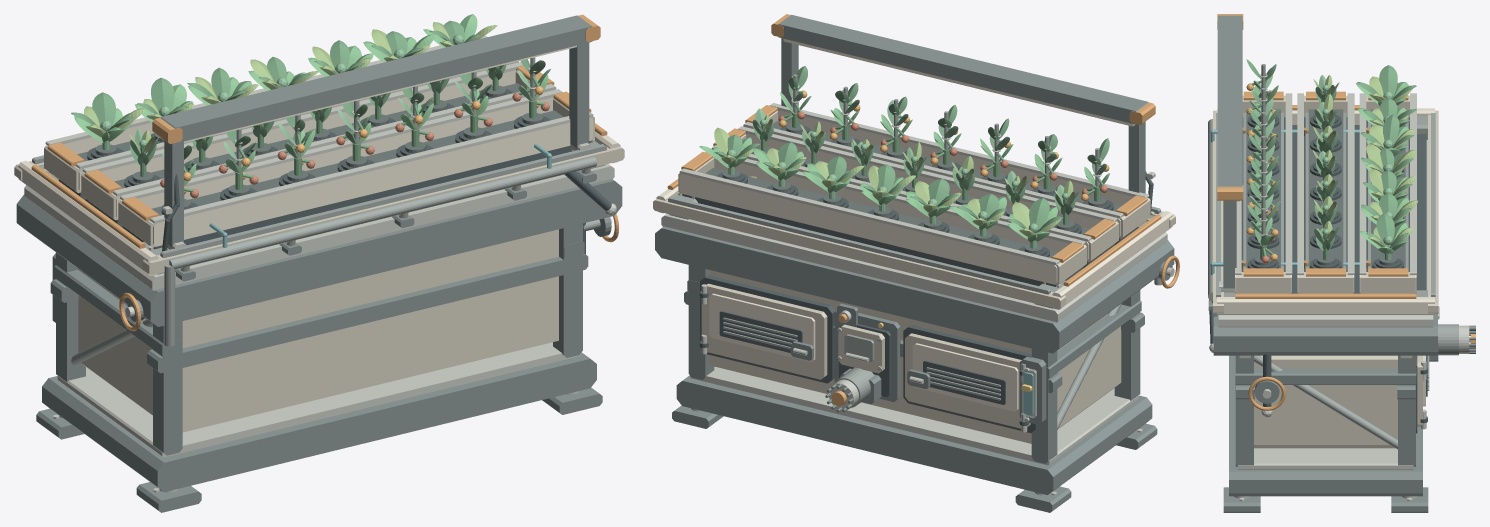
Rendered from large_planter_source.glb.
3 renders of one model, left to right at view 1: azimuth 30°, elevation 25°; view 2: azimuth 150°, elevation 25°; view 3: azimuth 270°, elevation 25°, orthographic. The views are drawn at different scales.
Parts seen in each view (by area): view 1: Static__gunmetal, Static__bone, Static__steel, Static__cream, Static__darksteel, Static__inner, Static__graphite, Harvest_Crops_Front__leaf_dark, Static__ochre, Harvest_Crops_Front__leaf_medium, Harvest_Crops_Back__leaf_dark, Harvest_Crops_Front__leaf_light (+6 smaller); view 2: Static__gunmetal, Static__steel, Static__cream, Static__bone, Static__graphite, Static__darksteel, Static__inner, Harvest_Crops_Front__leaf_dark, Static__ochre, Harvest_Crops_Back__leaf_dark, Harvest_Crops_Front__leaf_light, Harvest_Crops_Front__leaf_medium (+10 smaller); view 3: Static__gunmetal, Static__bone, Static__steel, Static__darksteel, Static__graphite, Static__inner, Static__cream, Harvest_Crops_Front__leaf_dark, Static__ochre, Harvest_Crops_Front__leaf_light, Static__rubber, Harvest_Crops_Front__leaf_medium (+10 smaller).
Boxes of the visible parts, left/top/right/bottom form: Static__gunmetal: left=16, top=15, right=622, bottom=512; Static__bone: left=14, top=71, right=624, bottom=432; Static__steel: left=24, top=35, right=616, bottom=492; Static__cream: left=18, top=45, right=620, bottom=275; Static__darksteel: left=32, top=57, right=606, bottom=365; Static__inner: left=77, top=83, right=563, bottom=215; Static__graphite: left=49, top=88, right=611, bottom=254; Harvest_Crops_Front__leaf_dark: left=71, top=21, right=481, bottom=132; Static__ochre: left=31, top=14, right=607, bottom=248; Harvest_Crops_Front__leaf_medium: left=74, top=14, right=482, bottom=142; Harvest_Crops_Back__leaf_dark: left=184, top=59, right=545, bottom=202; Harvest_Crops_Front__leaf_light: left=83, top=22, right=497, bottom=137; Static__gunmetal: left=655, top=14, right=1174, bottom=512; Static__steel: left=661, top=85, right=1167, bottom=495; Static__cream: left=656, top=38, right=1172, bottom=411; Static__bone: left=653, top=111, right=1175, bottom=443; Static__graphite: left=682, top=126, right=1143, bottom=432; Static__darksteel: left=668, top=74, right=1162, bottom=429; Static__inner: left=705, top=121, right=1121, bottom=257; Harvest_Crops_Front__leaf_dark: left=714, top=134, right=1063, bottom=232; Static__ochre: left=667, top=14, right=1161, bottom=406; Harvest_Crops_Back__leaf_dark: left=783, top=66, right=1109, bottom=201; Harvest_Crops_Front__leaf_light: left=714, top=127, right=1061, bottom=237; Harvest_Crops_Front__leaf_medium: left=699, top=137, right=1057, bottom=242; Static__gunmetal: left=1208, top=15, right=1475, bottom=512; Static__bone: left=1213, top=95, right=1438, bottom=448; Static__steel: left=1209, top=74, right=1469, bottom=501; Static__darksteel: left=1208, top=64, right=1458, bottom=449; Static__graphite: left=1209, top=114, right=1427, bottom=433; Static__inner: left=1246, top=109, right=1405, bottom=268; Static__cream: left=1217, top=108, right=1434, bottom=406; Harvest_Crops_Front__leaf_dark: left=1357, top=65, right=1416, bottom=247; Static__ochre: left=1217, top=14, right=1475, bottom=346; Harvest_Crops_Front__leaf_light: left=1366, top=76, right=1417, bottom=247; Static__rubber: left=1247, top=115, right=1403, bottom=268; Harvest_Crops_Front__leaf_medium: left=1355, top=82, right=1410, bottom=254.
Size of the model in its own units: 2.22 by 1.64 by 1.23.
